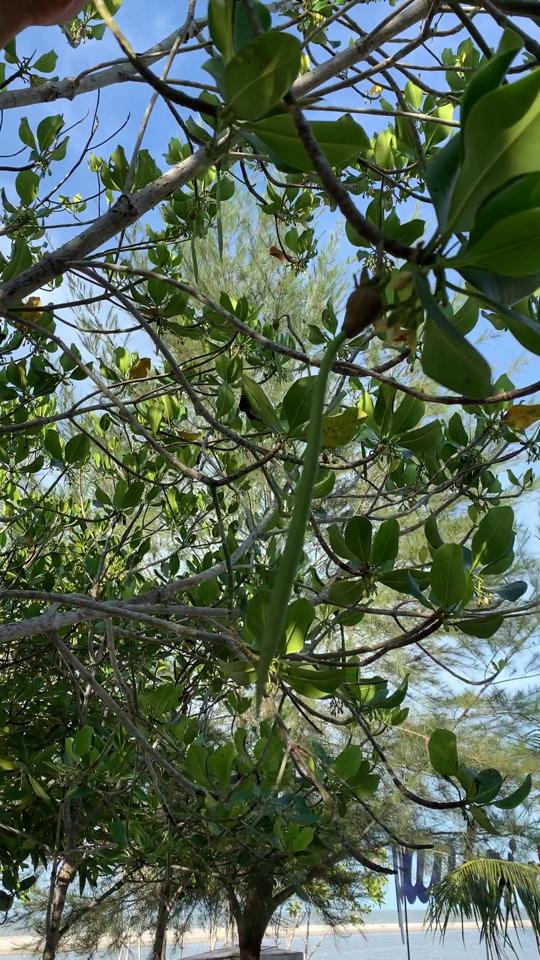mentah: (245, 262, 394, 726)
